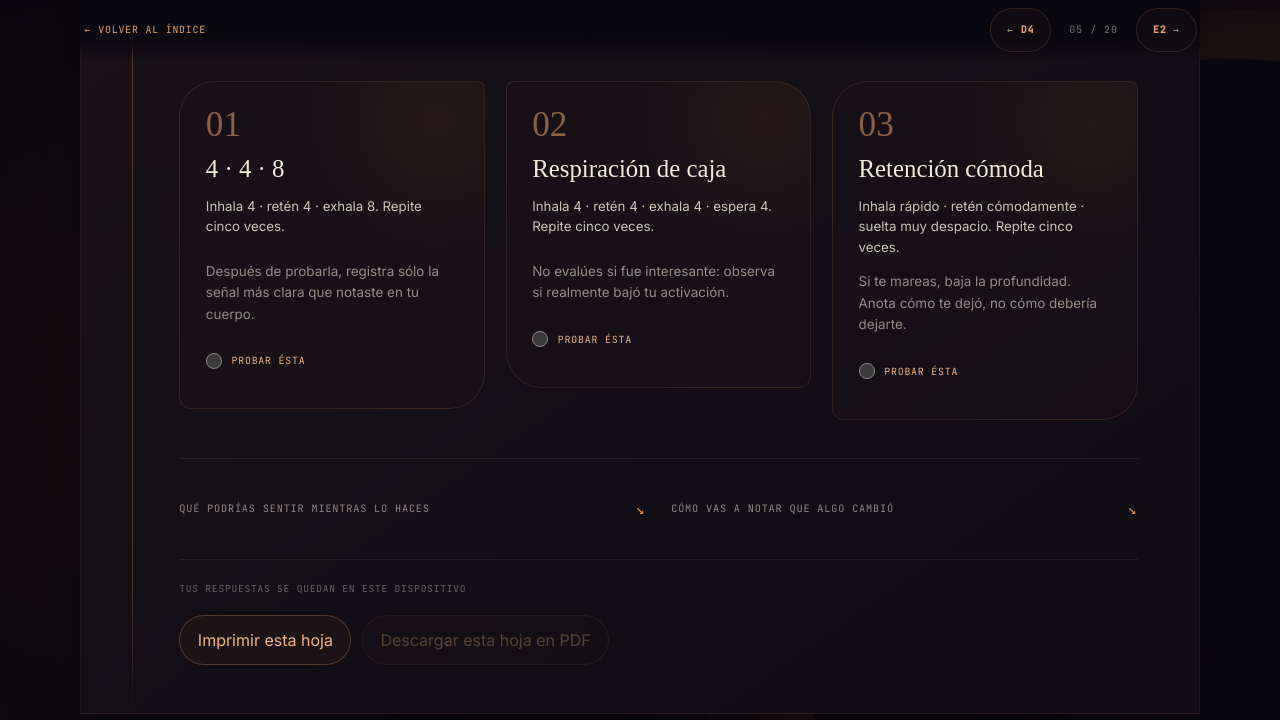
Test: cuaderno de trabajo › E1 deja elegir una respiracion antes de abrir su registro corporal
(page scrolled)
Expected: the text "Inhala 4 · retén 4 · exhala 8. Repite cinco veces." is shown, [206,196,458,247]
Expected: the radio button with aria-label "Elegir Respiración de caja" is shown, [532,331,548,347]
Click the radio button with aria-label "Elegir 4 · 4 · 8": click(214, 361) [206,353,222,369]
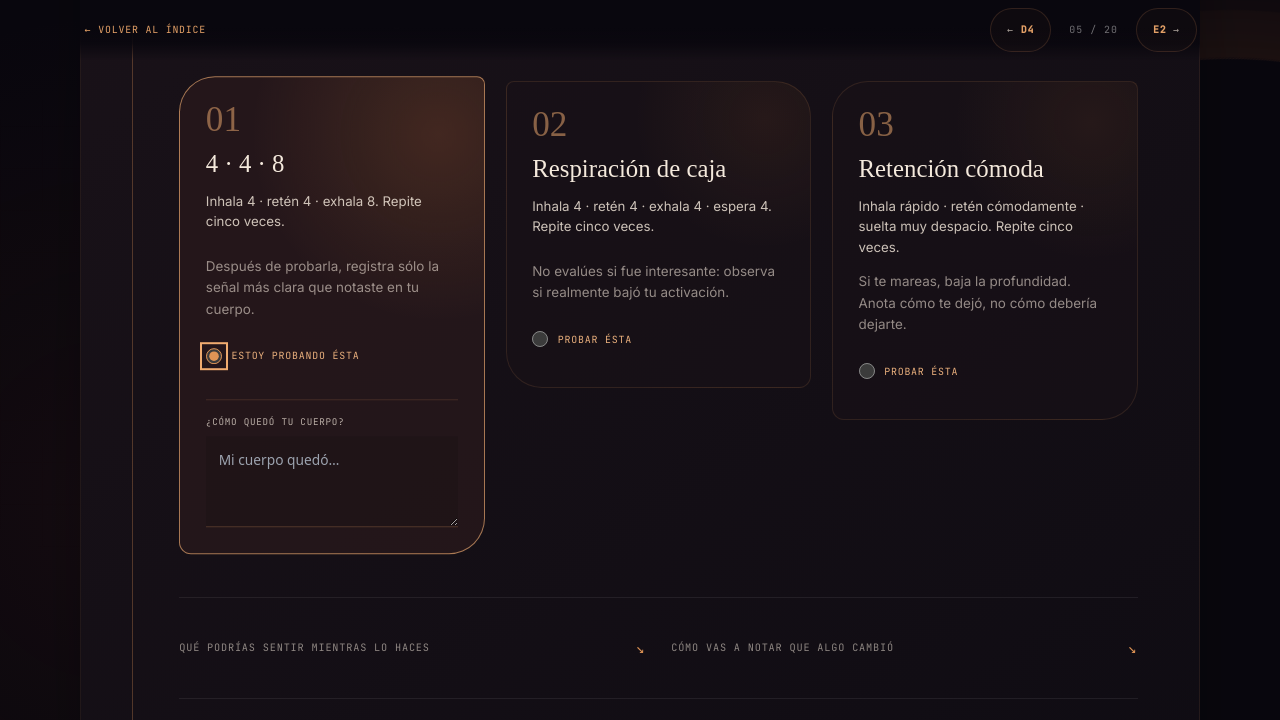
Result: the text box named "Cómo me dejó 4 · 4 · 8" is shown at [206,437,458,527]
